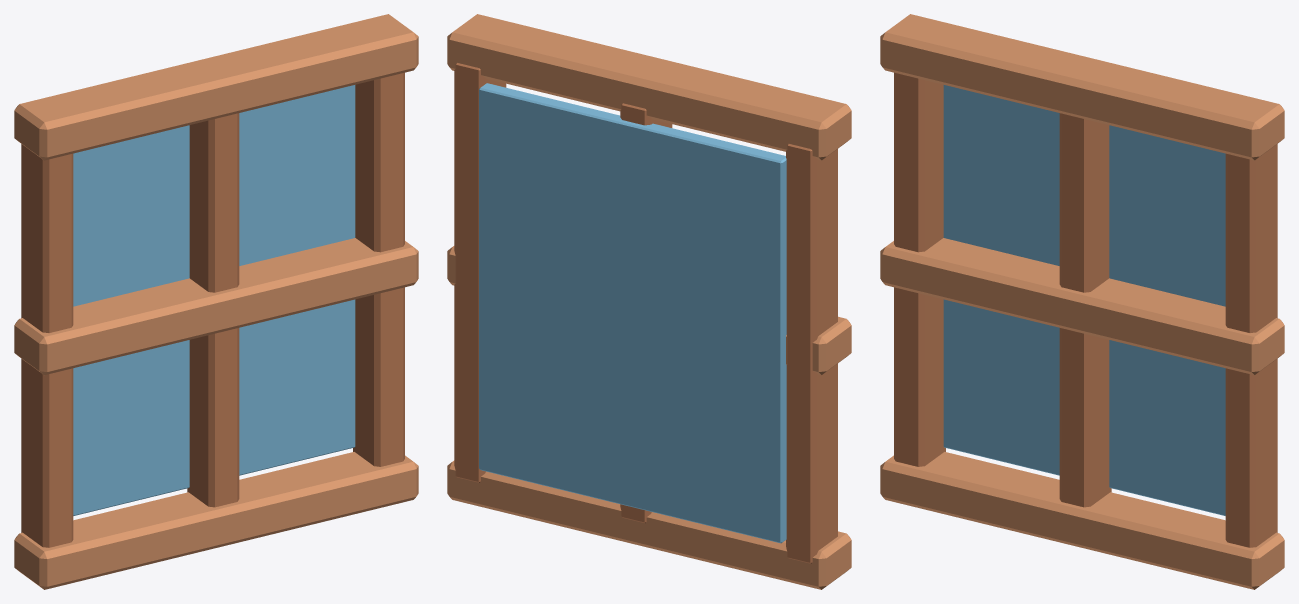
The model's file is _Window.fbx.
3 views of the same model, side by side, from view 1: azimuth 30°, elevation 25°; view 2: azimuth 150°, elevation 25°; view 3: azimuth 330°, elevation 25° (orthographic).
Parts seen in each view (by area): view 1: 08_Window / Blue panes, 08_Window / Horizontal frame.002, 08_Window / Horizontal frame, 08_Window / Horizontal frame.001, 08_Window / Vertical frame, 08_Window / Vertical frame.001, 08_Window / Vertical frame.002; view 2: 08_Window / Blue panes, 08_Window / Horizontal frame.002, 08_Window / Vertical frame, 08_Window / Horizontal frame, 08_Window / Vertical frame.002, 08_Window / Horizontal frame.001, 08_Window / Vertical frame.001; view 3: 08_Window / Blue panes, 08_Window / Horizontal frame.002, 08_Window / Horizontal frame, 08_Window / Horizontal frame.001, 08_Window / Vertical frame.002, 08_Window / Vertical frame.001, 08_Window / Vertical frame.
Part boxes in pixels (x1,y1,x2,y2): 08_Window / Blue panes: (73, 85, 355, 515); 08_Window / Horizontal frame.002: (14, 14, 418, 160); 08_Window / Horizontal frame: (14, 452, 418, 589); 08_Window / Horizontal frame.001: (14, 238, 418, 375); 08_Window / Vertical frame: (21, 144, 73, 547); 08_Window / Vertical frame.001: (187, 113, 239, 507); 08_Window / Vertical frame.002: (353, 72, 404, 466); 08_Window / Blue panes: (479, 83, 786, 543); 08_Window / Horizontal frame.002: (447, 14, 851, 160); 08_Window / Vertical frame: (786, 143, 837, 563); 08_Window / Horizontal frame: (447, 460, 851, 589); 08_Window / Vertical frame.002: (454, 63, 506, 482); 08_Window / Horizontal frame.001: (447, 246, 851, 375); 08_Window / Vertical frame.001: (620, 103, 672, 523); 08_Window / Blue panes: (943, 85, 1225, 515); 08_Window / Horizontal frame.002: (880, 14, 1284, 160); 08_Window / Horizontal frame: (880, 452, 1284, 589); 08_Window / Horizontal frame.001: (880, 238, 1284, 375); 08_Window / Vertical frame.002: (1225, 144, 1277, 547); 08_Window / Vertical frame.001: (1059, 113, 1111, 507); 08_Window / Vertical frame: (894, 72, 945, 466).
Bounding box in the file's own units: 135 × 159 × 21.5.
